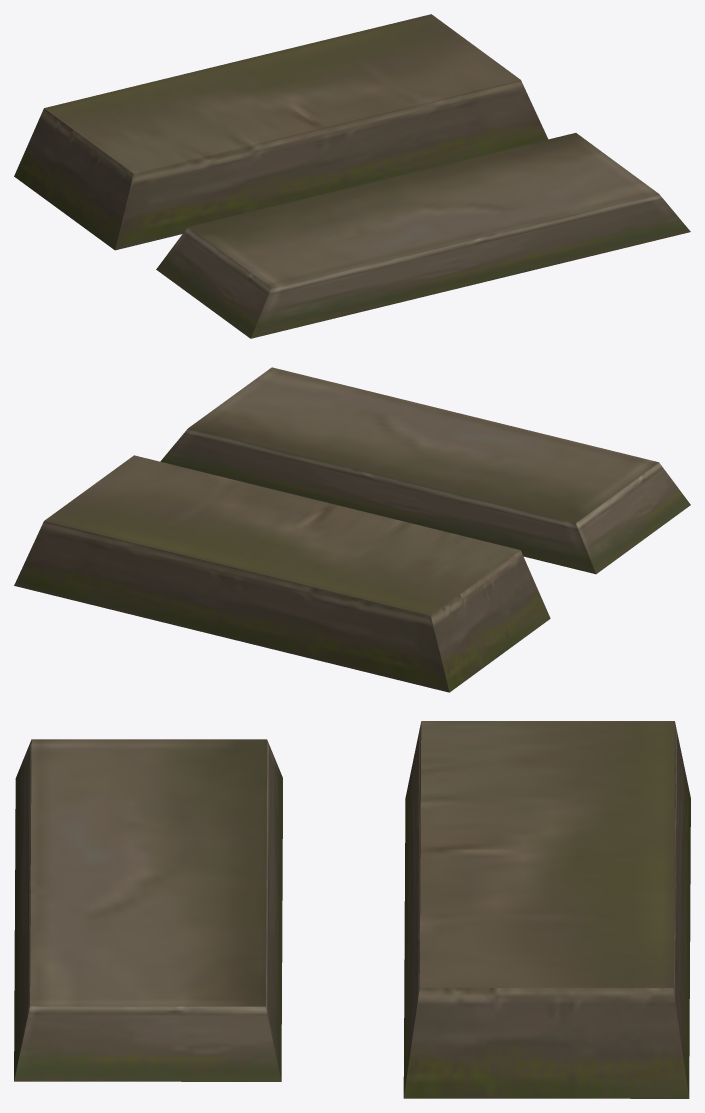
File: ZC_tabu01.FBX
3 views of the same model, one above another, from view 1: azimuth 30°, elevation 25°; view 2: azimuth 150°, elevation 25°; view 3: azimuth 270°, elevation 25° (orthographic). The views are drawn at different scales.
Visible parts, largest first — view 1: ZC_tabu01_001, ZC_tabu01_002; view 2: ZC_tabu01_001, ZC_tabu01_002; view 3: ZC_tabu01_001, ZC_tabu01_002.
Part boxes in pixels (box(x1,y1,x2,y2)): ZC_tabu01_001: box(14, 14, 548, 250); ZC_tabu01_002: box(156, 133, 690, 338); ZC_tabu01_001: box(14, 455, 550, 692); ZC_tabu01_002: box(160, 367, 690, 574); ZC_tabu01_001: box(403, 721, 690, 1098); ZC_tabu01_002: box(14, 739, 282, 1081).
Bounding box in the file's own units: 123 × 17.77 × 116.
Materials: 1 (1 with a texture image).
